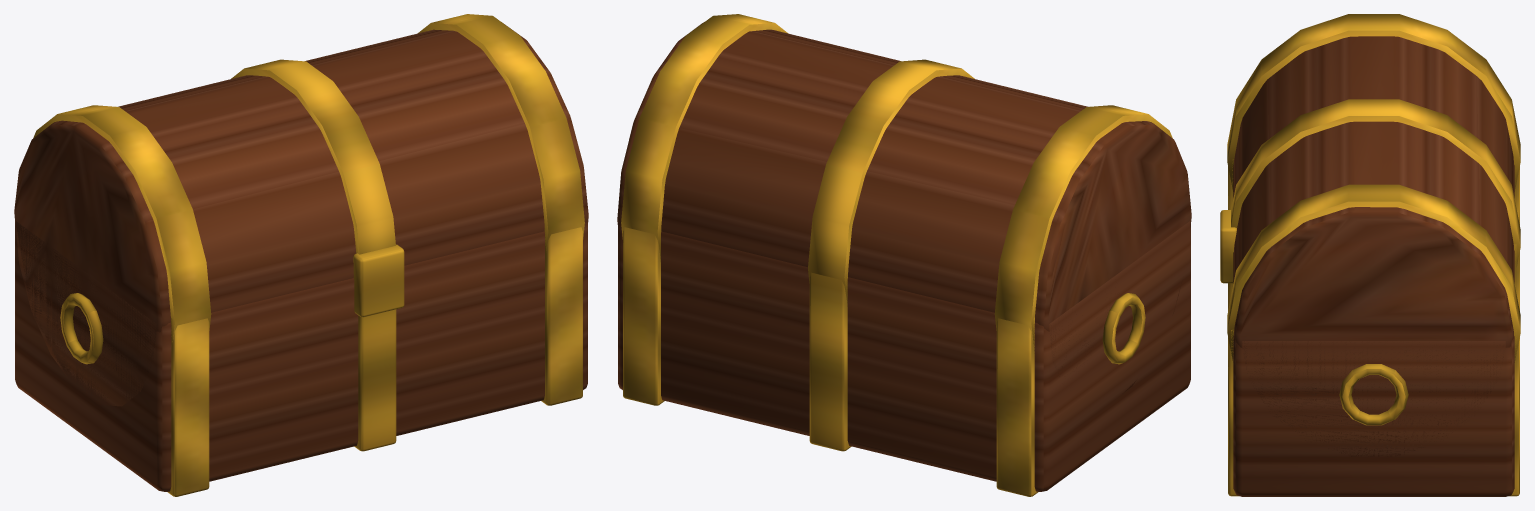
The model's file is h_prop_crate.glb.
3 renders of one model, left to right at view 1: azimuth 30°, elevation 25°; view 2: azimuth 150°, elevation 25°; view 3: azimuth 270°, elevation 25°, orthographic. The views are drawn at different scales.
Visible parts, largest first — view 1: TrunkVaultLid, TrunkBox, TrunkBandArch_-0.46, TrunkBandArch_0.46, TrunkBandArch_0.00, TrunkBandBox_-0.46, TrunkBandBox_0.46, TrunkBandBox_0.00, TrunkLockPlate, TrunkHandle_-1; view 2: TrunkVaultLid, TrunkBox, TrunkBandArch_-0.46, TrunkBandArch_0.46, TrunkBandArch_0.00, TrunkBandBox_-0.46, TrunkBandBox_0.00, TrunkBandBox_0.46, TrunkHandle_-1; view 3: TrunkVaultLid, TrunkBox, TrunkBandArch_0.46, TrunkBandArch_-0.46, TrunkBandArch_0.00, TrunkHandle_1, TrunkBandBox_0.46, TrunkLockPlate, TrunkBandBox_-0.46, TrunkBandBox_0.00.
Part boxes in pixels (x1,y1,x2,y2): TrunkVaultLid: (14, 23, 588, 406); TrunkBox: (15, 221, 587, 491); TrunkBandArch_-0.46: (33, 105, 211, 350); TrunkBandArch_0.46: (417, 14, 584, 252); TrunkBandArch_0.00: (231, 59, 395, 254); TrunkBandBox_-0.46: (167, 318, 209, 496); TrunkBandBox_0.46: (541, 227, 582, 405); TrunkBandBox_0.00: (354, 309, 396, 451); TrunkLockPlate: (353, 244, 404, 317); TrunkHandle_-1: (60, 293, 103, 364); TrunkVaultLid: (617, 22, 1191, 393); TrunkBox: (618, 221, 1190, 491); TrunkBandArch_-0.46: (994, 105, 1172, 350); TrunkBandArch_0.46: (621, 14, 788, 261); TrunkBandArch_0.00: (808, 59, 974, 306); TrunkBandBox_-0.46: (996, 317, 1038, 496); TrunkBandBox_0.00: (809, 272, 851, 451); TrunkBandBox_0.46: (623, 227, 664, 405); TrunkHandle_-1: (1102, 293, 1145, 364); TrunkVaultLid: (1234, 36, 1513, 456); TrunkBox: (1233, 165, 1514, 496); TrunkBandArch_0.46: (1227, 184, 1520, 362); TrunkBandArch_-0.46: (1227, 14, 1520, 191); TrunkBandArch_0.00: (1231, 99, 1520, 266); TrunkHandle_1: (1339, 364, 1408, 425); TrunkBandBox_0.46: (1228, 330, 1519, 496); TrunkLockPlate: (1220, 210, 1236, 283); TrunkBandBox_-0.46: (1228, 159, 1519, 225); TrunkBandBox_0.00: (1228, 244, 1519, 310).
Bounding box in the file's own units: 1.1 × 0.7439 × 0.684.
Materials: 2 (2 with a texture image).
